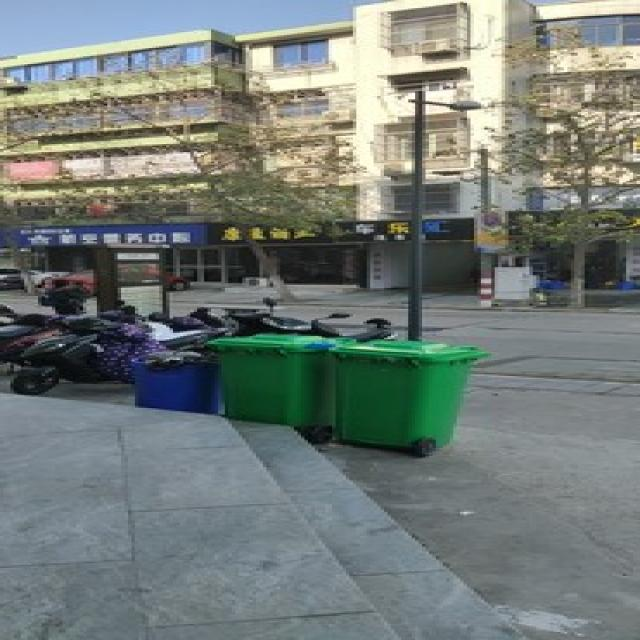ash bin: (318, 339, 484, 456), (204, 331, 336, 442), (121, 346, 218, 410)
pole: (398, 123, 432, 338)
